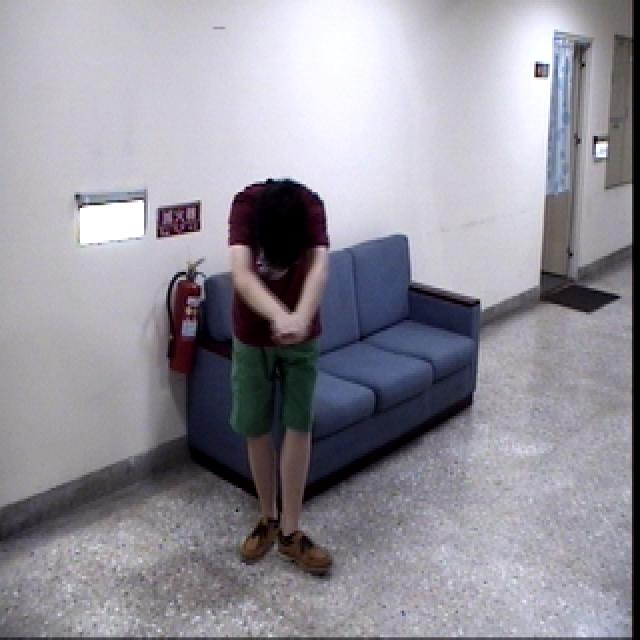bend: (214, 164, 344, 581)
